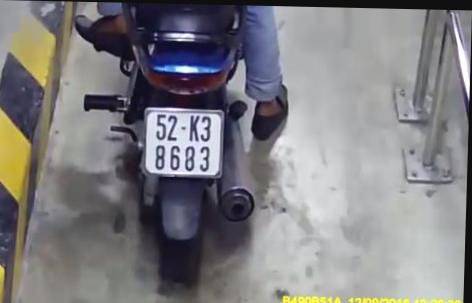License_Plate: (136, 104, 232, 184)
